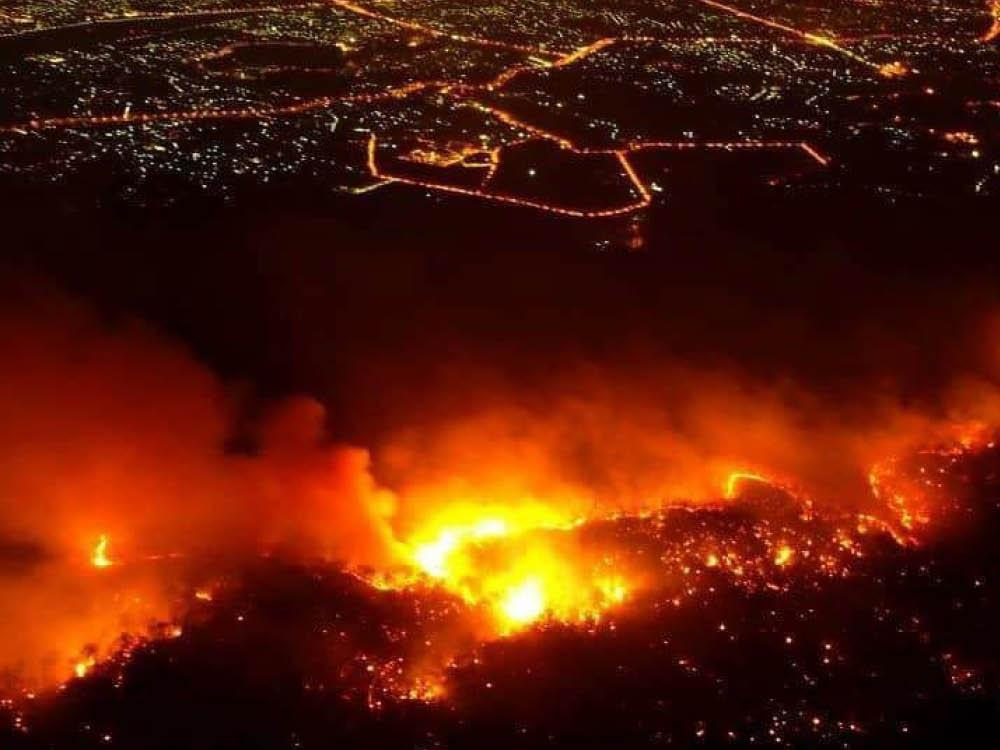fire: (313, 449, 691, 726), (27, 419, 208, 681), (712, 399, 945, 593)
